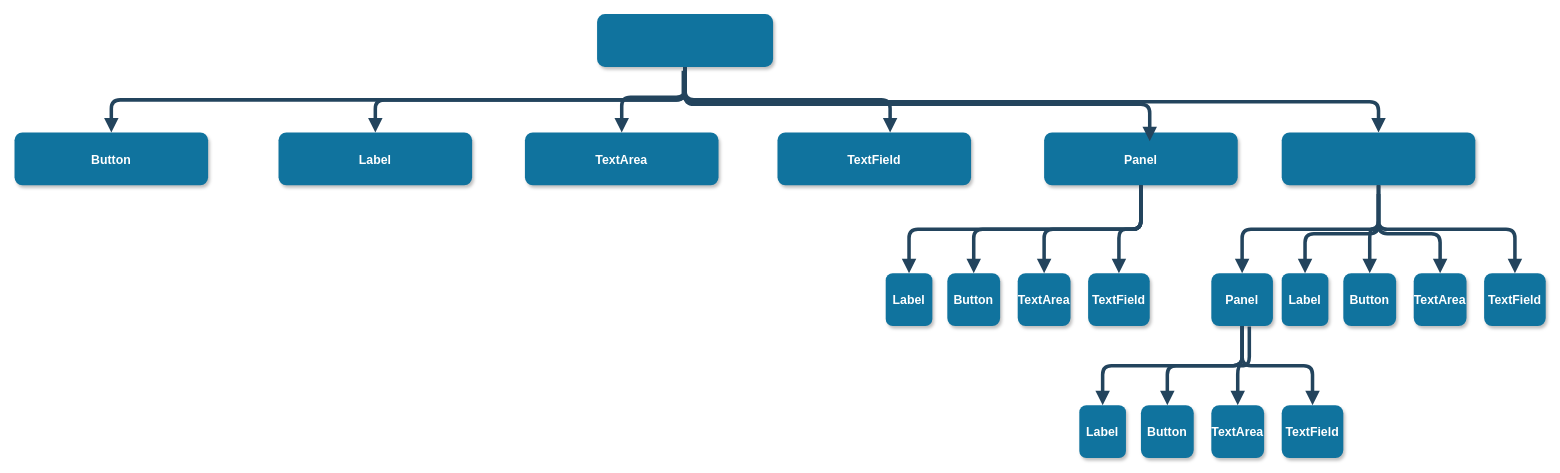
Some shapes in this 1560 by 473 pixel diagram are drawn without their labels. Each missing label, with the centre of its shape:
"TabbedPane" belongs at pixel 1379 159.
"UIComponent" belongs at pixel 685 41.
